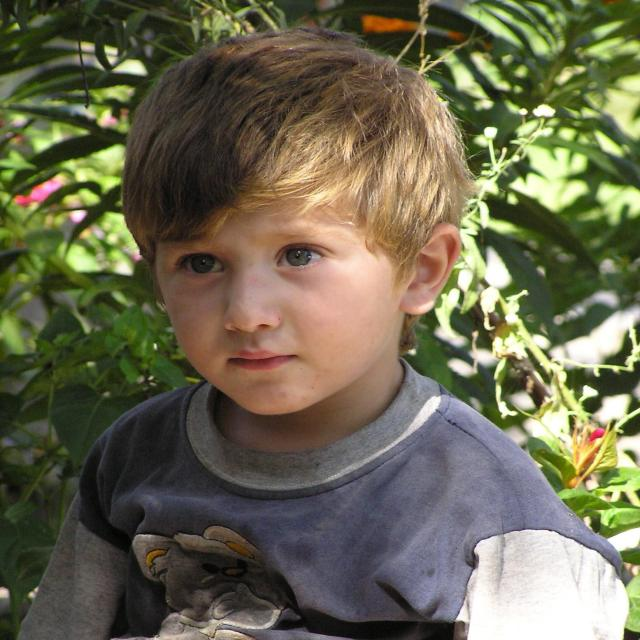no-glass: (166, 245, 344, 276)
